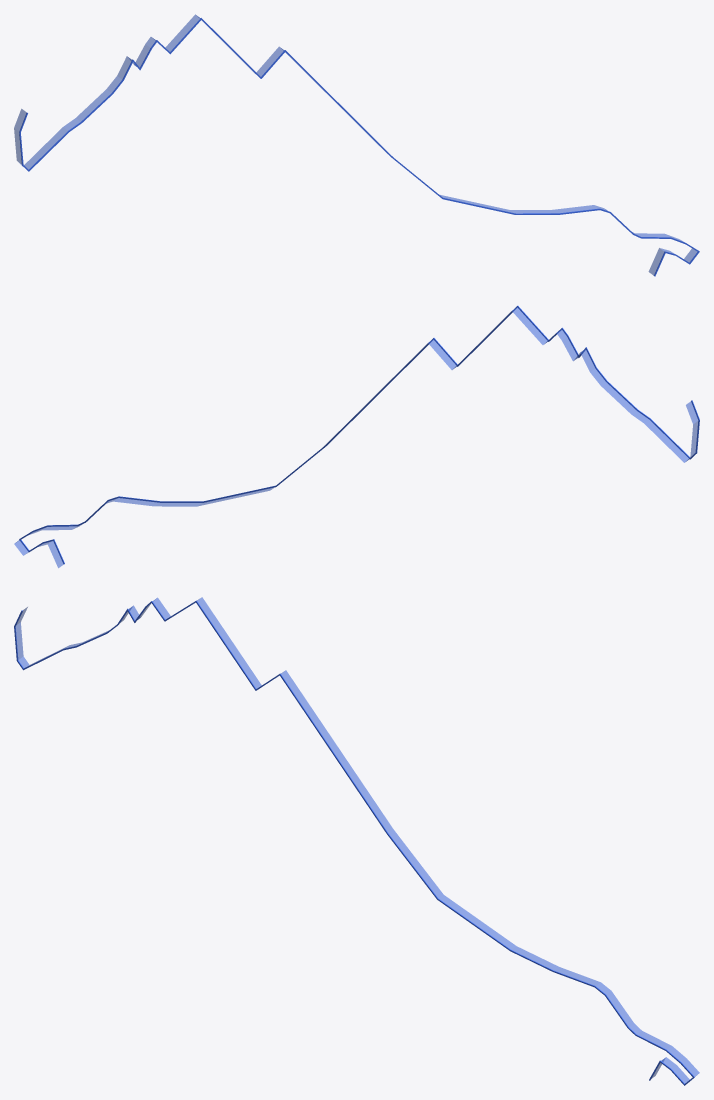
The model's file is busLineGreen.glb.
3 views of the same model, one above another, from view 1: azimuth 30°, elevation 25°; view 2: azimuth 150°, elevation 25°; view 3: azimuth 330°, elevation 25° (orthographic).
Parts seen in each view (by area): view 1: blue, blueLine; view 2: blue, blueLine; view 3: blue, blueLine.
Part boxes in pixels (x1,y1,x2,y2): blue: (14, 14, 697, 275); blueLine: (19, 18, 699, 276); blue: (14, 307, 698, 567); blueLine: (19, 305, 699, 564); blue: (15, 597, 699, 1083); blueLine: (14, 600, 694, 1085).
Size of the model in its own units: 1167 by 605 by 18.66.
